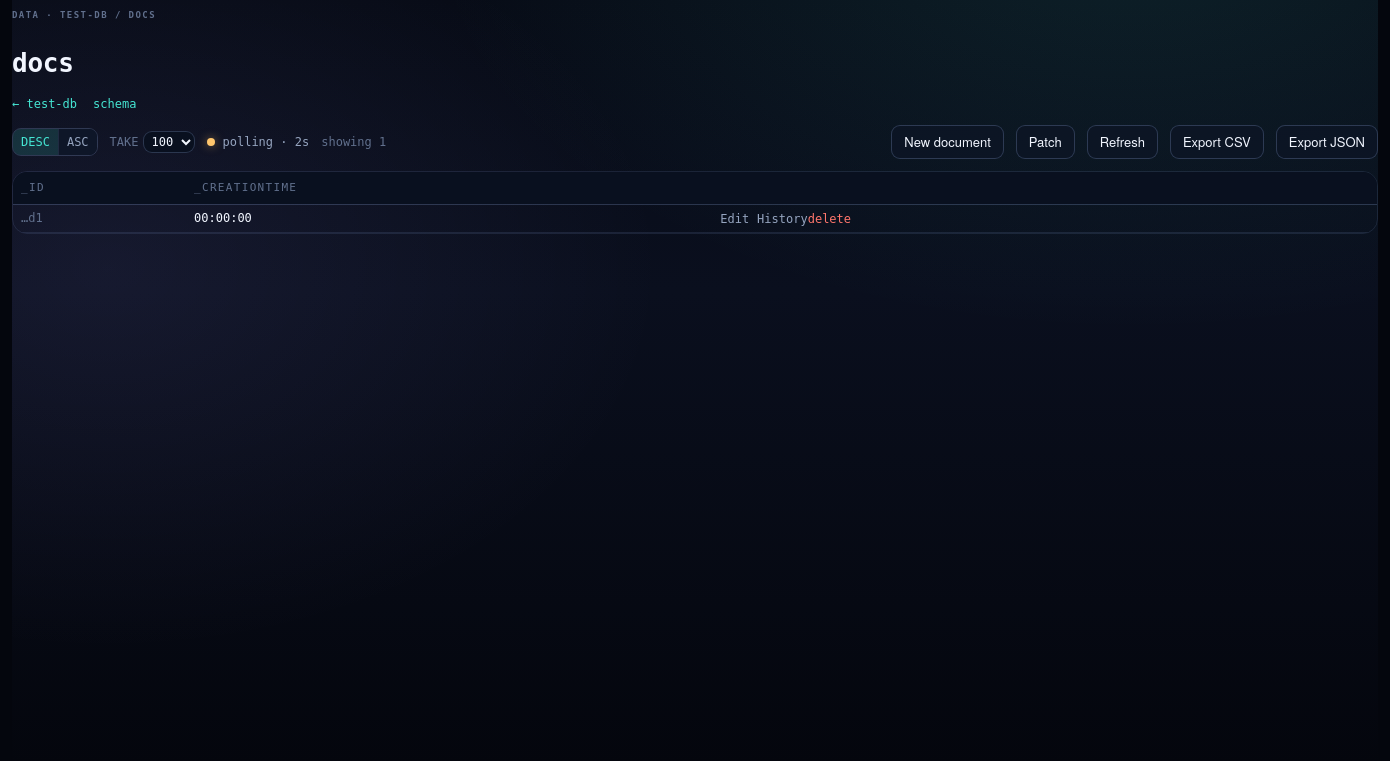
it: document history › confirms replacement with the chosen body, strips system fields, and guards the current version
Click the button "History": (782, 219) x1=757 y1=210 x2=808 y2=228
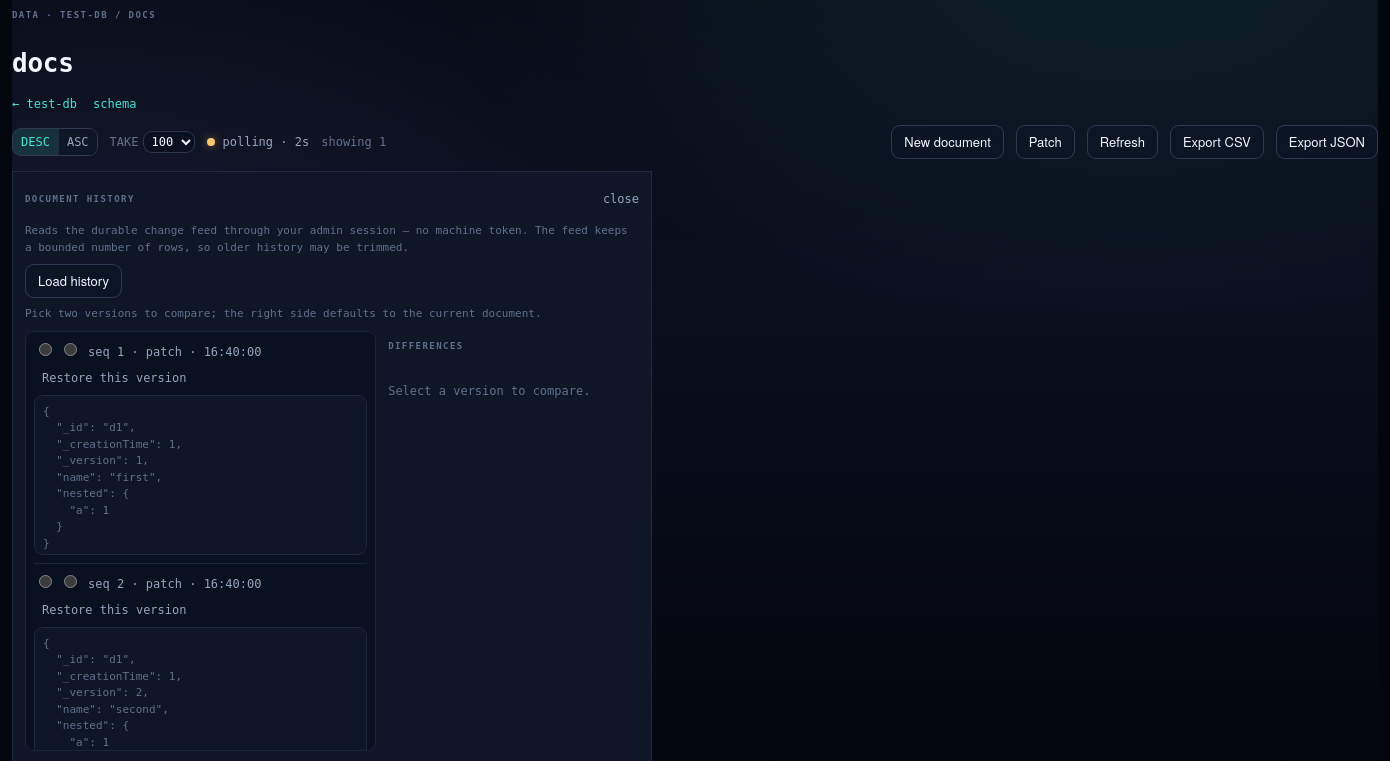
Expected: the element named "Version history" is shown, x1=25 y1=330 x2=376 y2=750
Click the 1st button "Restore this version": (114, 378) x1=42 y1=368 x2=186 y2=386
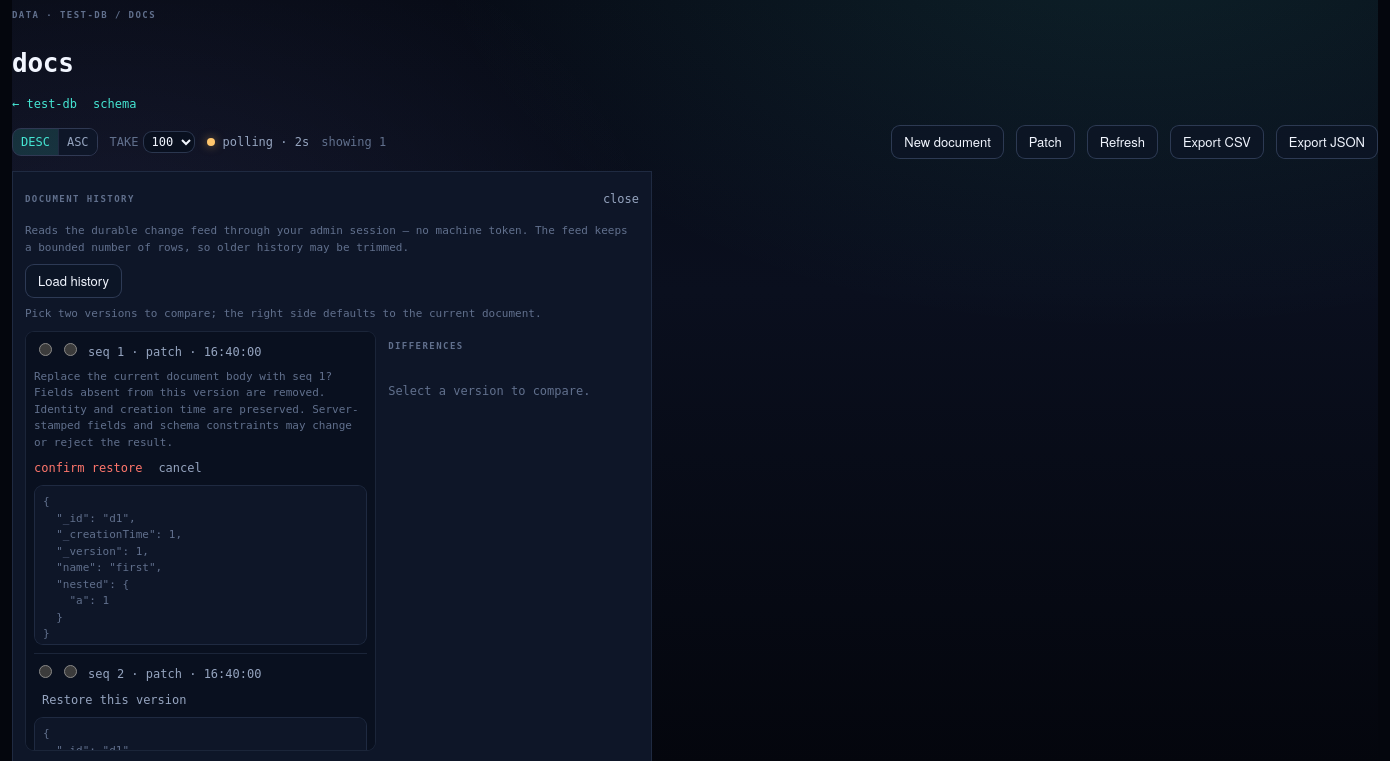
Click the button "confirm restore": (88, 468) x1=34 y1=459 x2=142 y2=477
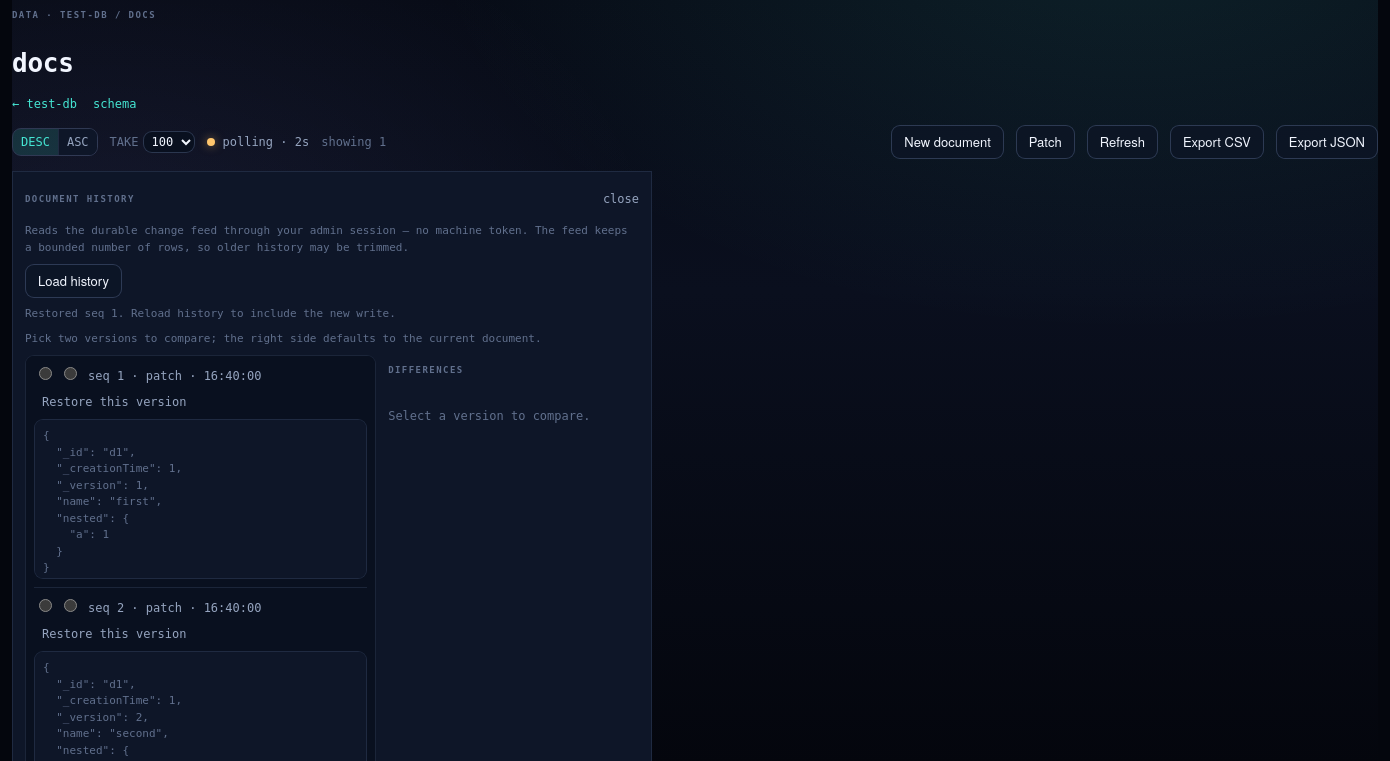
Expected: the message "Restored seq 1. Reload history to include the new write." is shown, x1=25 y1=307 x2=396 y2=320
